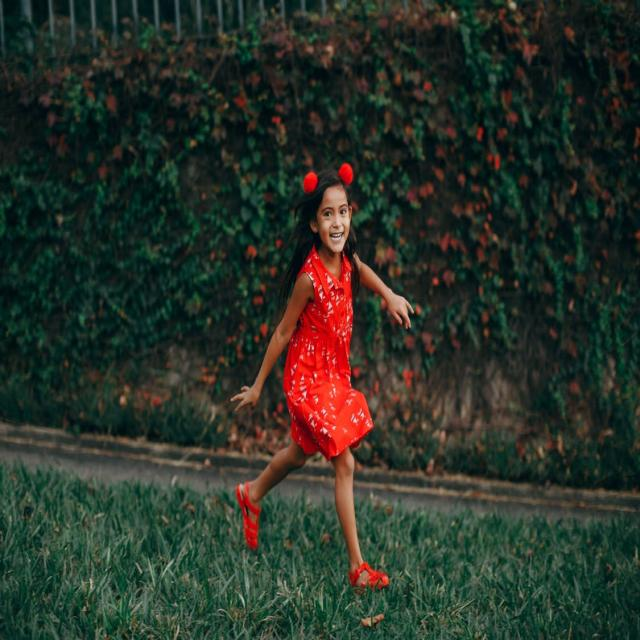running: (228, 160, 415, 598)
